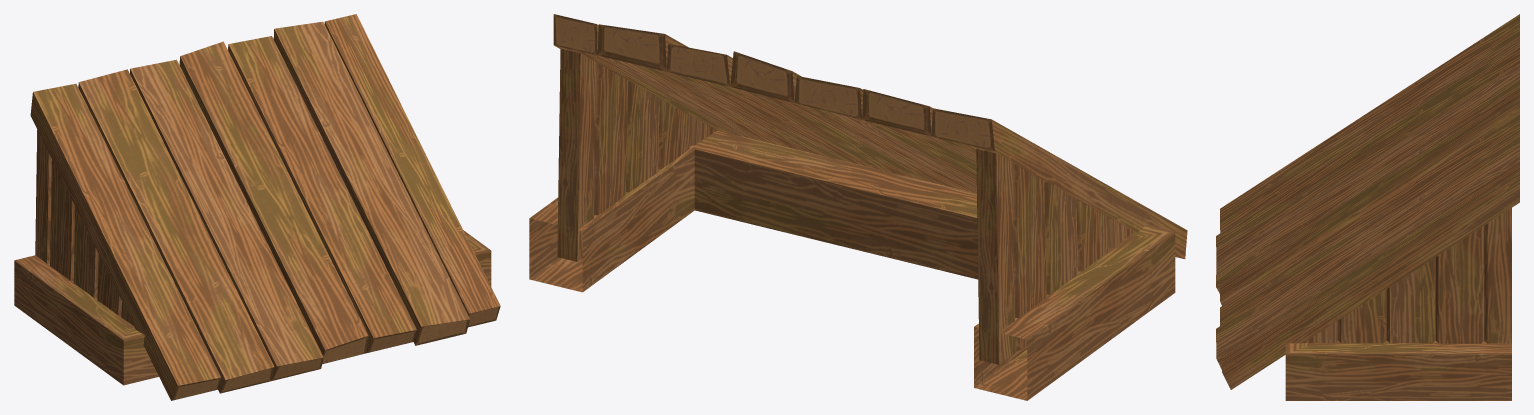
The picture shows the model from 3 angles, left to right: view 1: azimuth 30°, elevation 25°; view 2: azimuth 150°, elevation 25°; view 3: azimuth 270°, elevation 25°; orthographic projection. The views are drawn at different scales.
Parts seen in each view (by area): view 1: Roof_Wooden_2x1; view 2: Roof_Wooden_2x1; view 3: Roof_Wooden_2x1.
Part boxes in pixels (x1,y1,x2,y2): Roof_Wooden_2x1: [14, 14, 500, 400]; Roof_Wooden_2x1: [529, 14, 1187, 400]; Roof_Wooden_2x1: [1216, 14, 1519, 400].
Bounding box in the file's own units: 2.26 × 1.25 × 1.56.
Materials: 2 (2 with a texture image).
